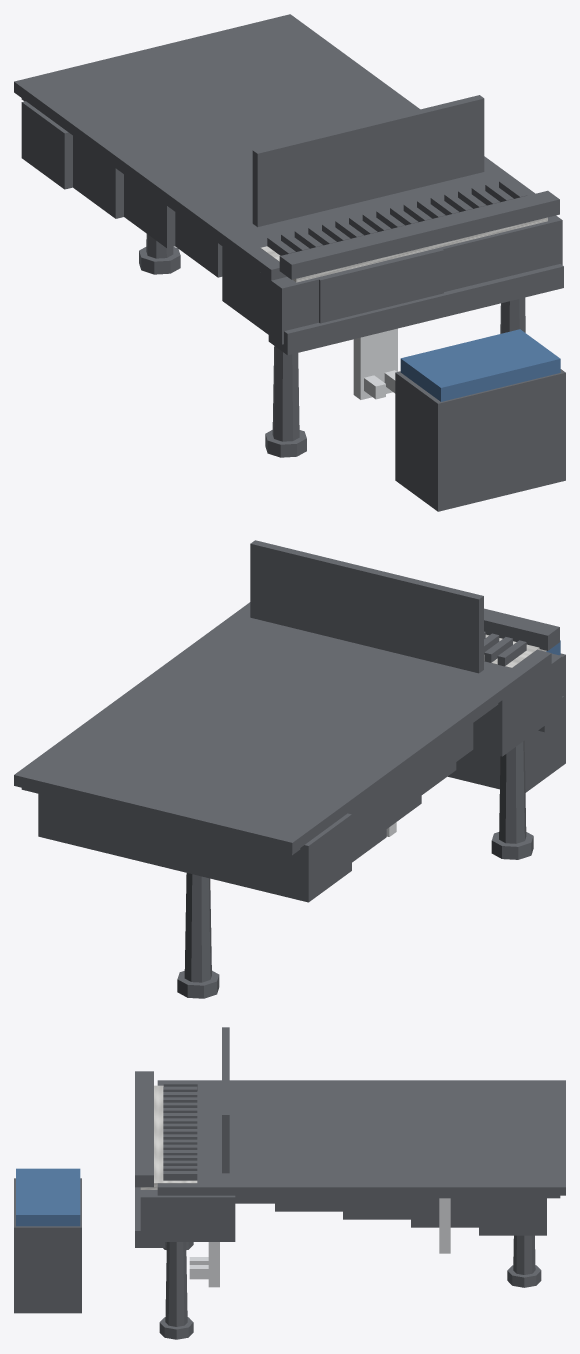
The model's file is cruise-ship-deck-and-lounge-cruise-ship-deck-and-loung-b7dcc74f__38457.glb.
3 renders of one model, top to bottom at view 1: azimuth 30°, elevation 25°; view 2: azimuth 150°, elevation 25°; view 3: azimuth 270°, elevation 25°, orthographic. The views are drawn at different scales.
Visible parts, largest first — view 1: cruise-ship-deck-and-lounge-grand-piano, piano-lid/charcoal; view 2: piano-lid/charcoal (×2), cruise-ship-deck-and-lounge-grand-piano; view 3: piano-lid/charcoal (×2), cruise-ship-deck-and-lounge-grand-piano, piano-lid/steel.
Part boxes in pixels (<box>): cruise-ship-deck-and-lounge-grand-piano: <box>21,95,565,511</box>; piano-lid/charcoal: <box>14,14,534,280</box>; piano-lid/charcoal (×2): <box>14,602,551,855</box>; cruise-ship-deck-and-lounge-grand-piano: <box>38,540,565,998</box>; piano-lid/charcoal (×2): <box>157,1080,565,1198</box>; cruise-ship-deck-and-lounge-grand-piano: <box>14,1027,546,1339</box>; piano-lid/steel: <box>439,1198,450,1253</box>.
Bounding box in the file's own units: 1.38 × 1.27 × 2.92.
Materials: 4 (1 with a texture image).
